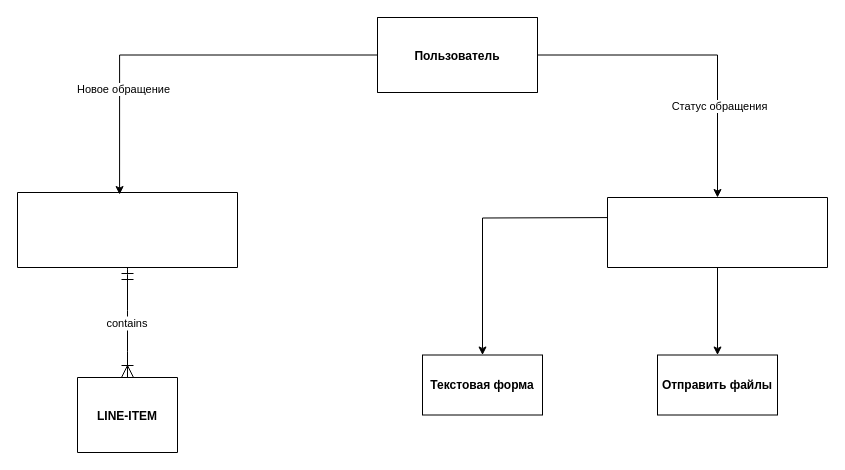
The diagram is 845 pixels wide and 470 high, and some of its shapes have lost their labels. The box of each missing label's shape, as (x1, y1, x2, y2) in pixels:
Странциа статуса обращения: (606, 196, 828, 268)
Форма обратной связи: (16, 192, 238, 268)
